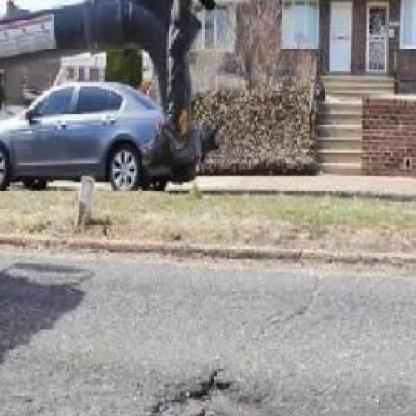pothole: (142, 370, 268, 416)
